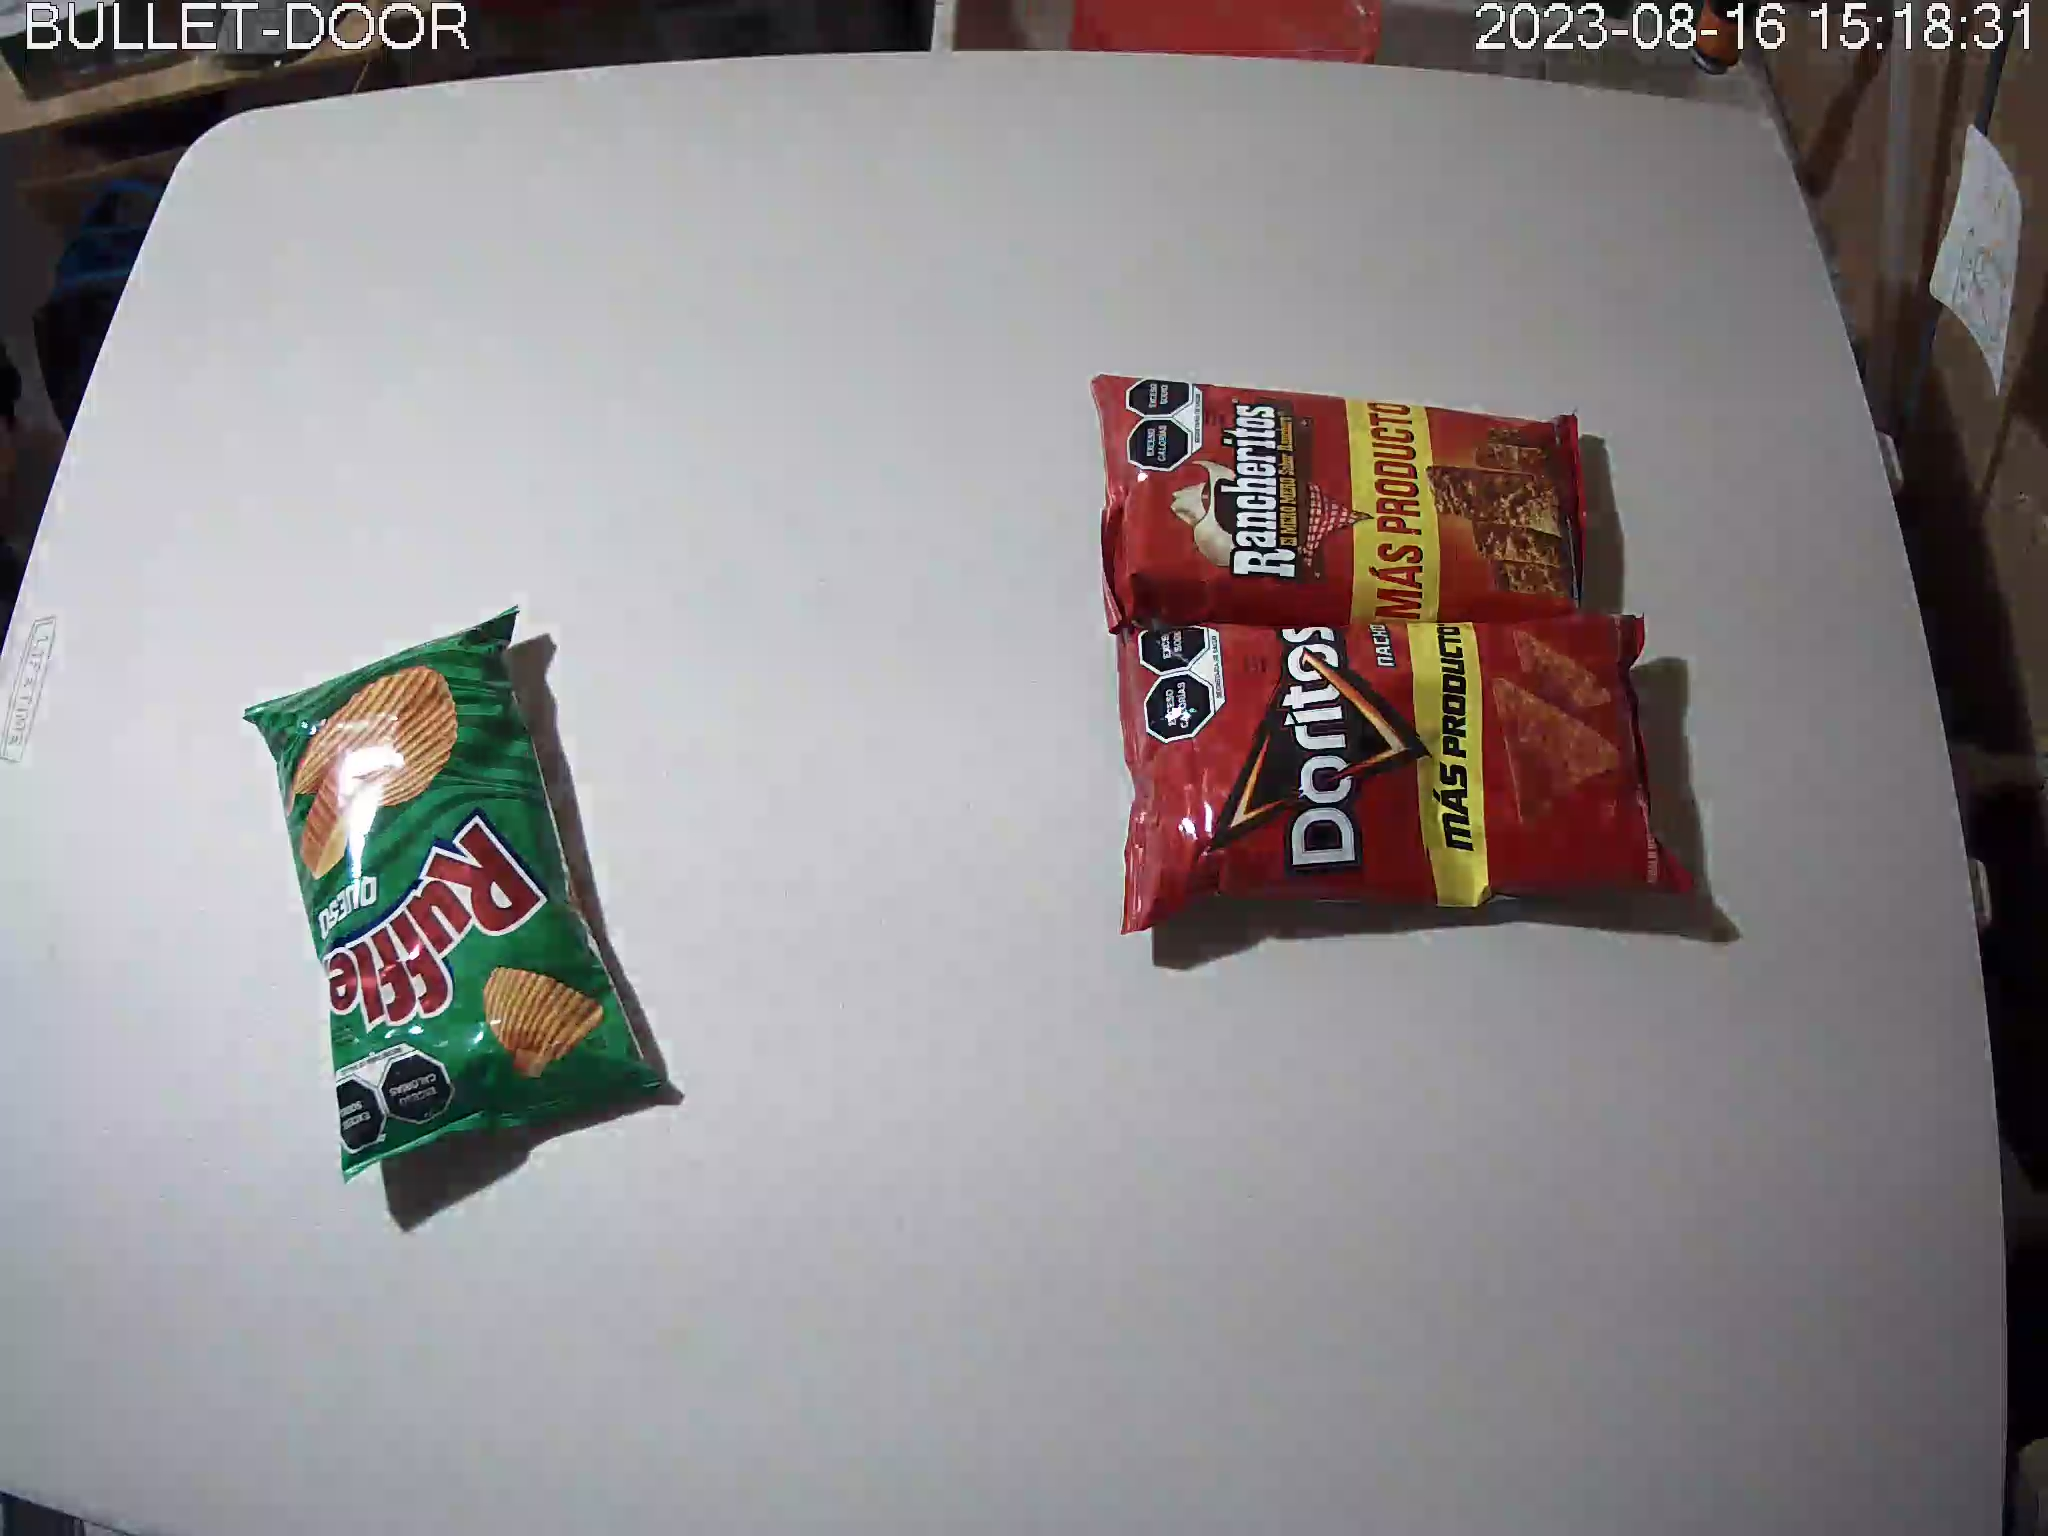DoritosN_61_F: (1122, 615, 1700, 937)
Rancheritos_58_F: (1090, 374, 1588, 644)
RufflesQ_48_F: (245, 607, 677, 1183)
